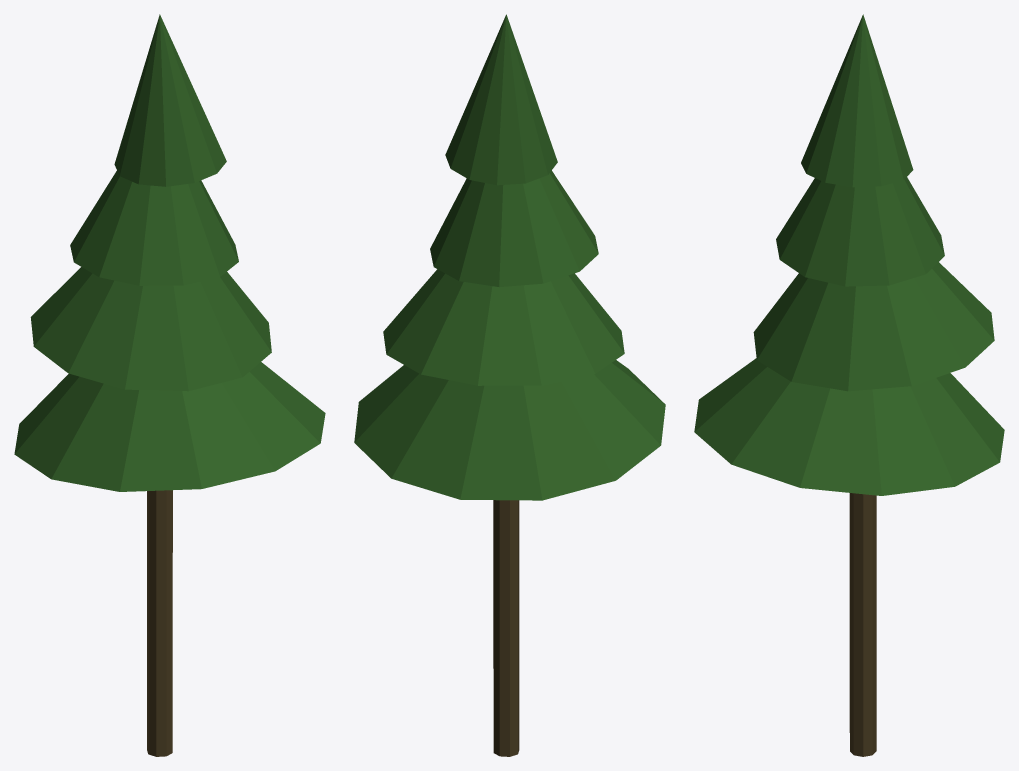
Rendered from tree01.fbx.
The picture shows the model from 3 angles, left to right: view 1: azimuth 30°, elevation 25°; view 2: azimuth 150°, elevation 25°; view 3: azimuth 270°, elevation 25°; orthographic projection.
Visible parts, largest first — view 1: tree01; view 2: tree01; view 3: tree01.
Part boxes in pixels (x1,y1,x2,y2): tree01: (14,14,325,756); tree01: (354,14,665,756); tree01: (694,14,1004,756).
Bounding box in the file's own units: 373 × 974 × 372.
